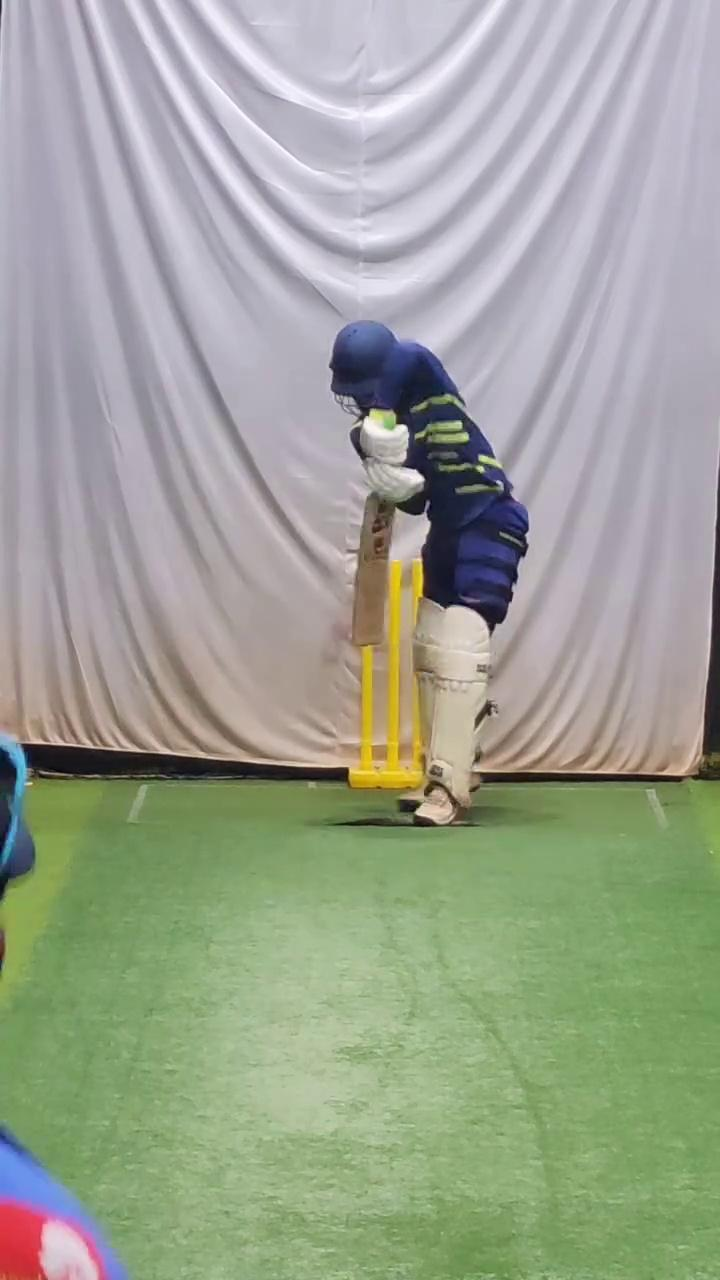bat: (351, 497, 396, 650)
